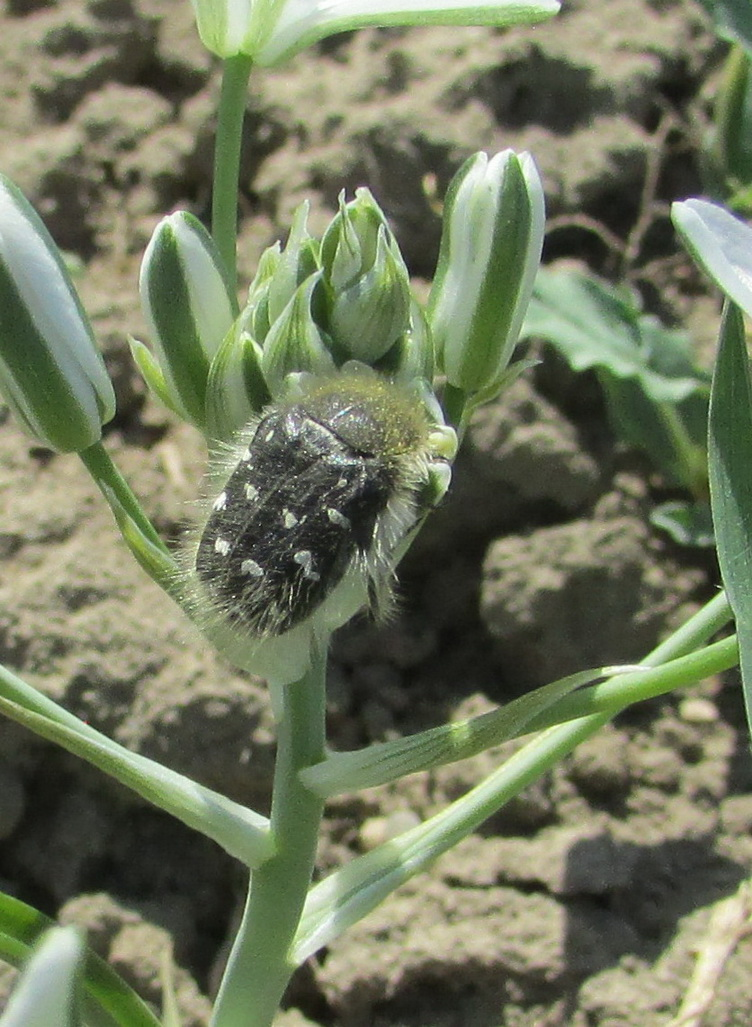Tropinota_hirta: (146, 362, 472, 671)
